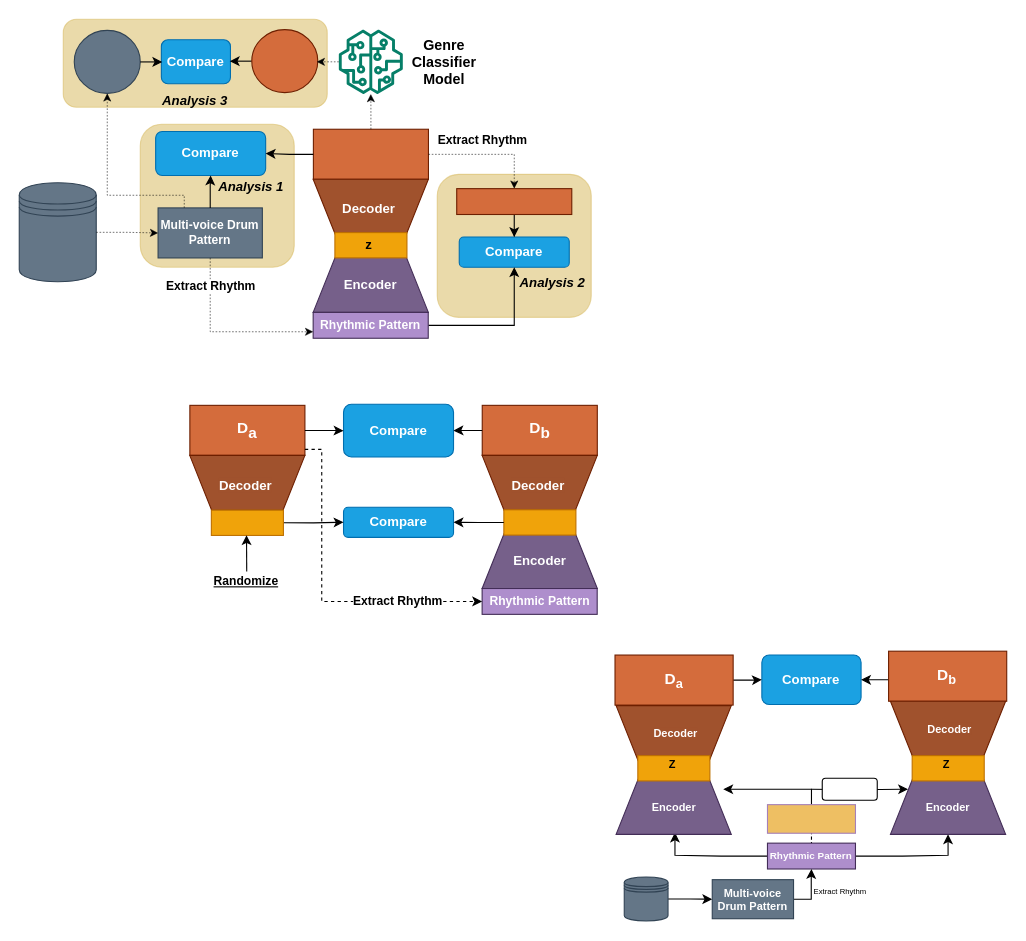
The diagram is 1026 pixels wide and 941 high, and some of its shapes have lost their labels. Each missing label, with the box of its shape:
Corresponding Controls: (766, 804, 855, 833)
Drum Pattern: (312, 128, 428, 179)
Generated Rhythm: (456, 188, 572, 215)
Ground Truth Genre: (73, 29, 140, 93)
Manipulate: (821, 777, 877, 800)
Predicted Genre: (251, 28, 318, 93)
Test Set: (18, 182, 96, 282)
Test Subset: (623, 876, 668, 921)
Z a: (210, 509, 283, 535)
Z b: (503, 509, 576, 535)
